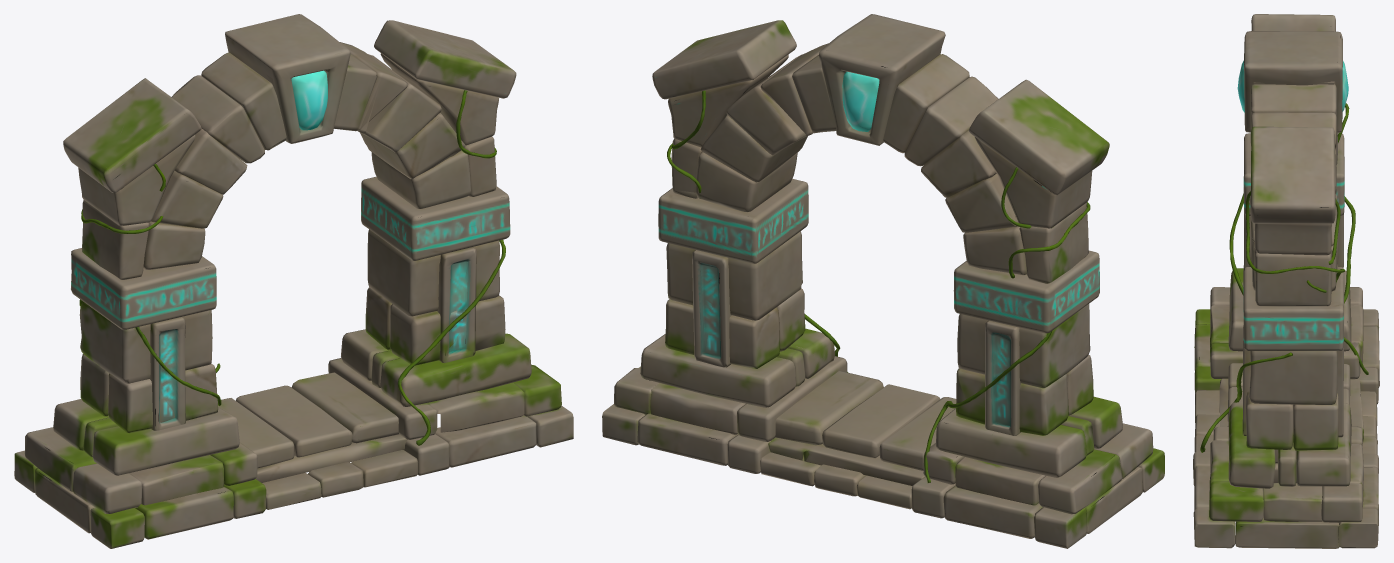
Rendered from arch_raw.glb.
3 views of the same model, side by side, from view 1: azimuth 30°, elevation 25°; view 2: azimuth 150°, elevation 25°; view 3: azimuth 270°, elevation 25° (orthographic). The views are drawn at different scales.
Visible parts, largest first — view 1: geometry_0; view 2: geometry_0; view 3: geometry_0.
Boxes of the visible parts, x1=… form: geometry_0: x1=14, y1=14, x2=573, y2=548; geometry_0: x1=602, y1=14, x2=1164, y2=548; geometry_0: x1=1193, y1=14, x2=1379, y2=548.
Size of the model in its own units: 1 by 0.8715 by 0.3735.
Materials: 1 (1 with a texture image).
